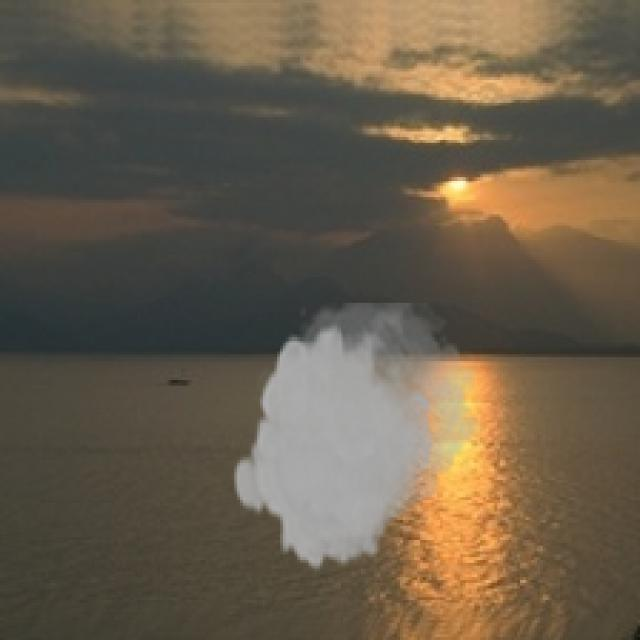Smoke: (231, 302, 486, 574)
